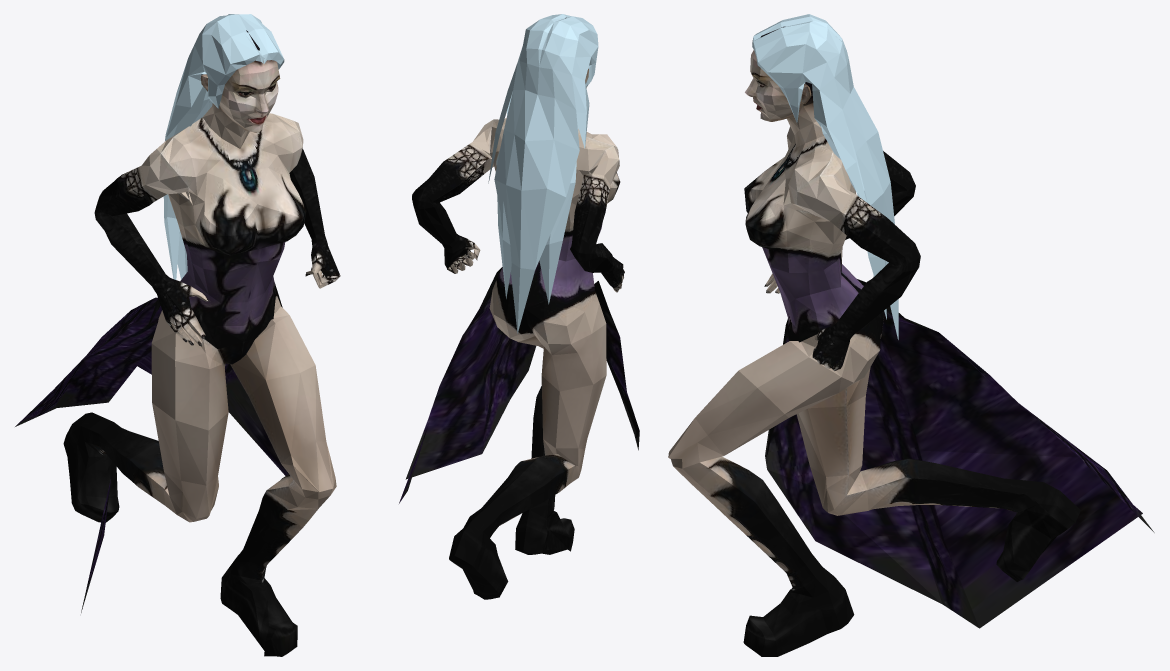
The model's file is running_007.obj.
3 renders of one model, left to right at view 1: azimuth 30°, elevation 25°; view 2: azimuth 150°, elevation 25°; view 3: azimuth 270°, elevation 25°, orthographic. The views are drawn at different scales.
Visible parts, largest first — view 1: Plane.001_Plane.007, Plane.003_Plane.008, capelli.001_Plane.006; view 2: Plane.001_Plane.007, capelli.001_Plane.006, Plane.003_Plane.008; view 3: Plane.001_Plane.007, Plane.003_Plane.008, capelli.001_Plane.006.
Boxes of the visible parts, left/top/right/bottom form: Plane.001_Plane.007: left=63, top=30, right=340, bottom=656; Plane.003_Plane.008: left=15, top=282, right=288, bottom=612; capelli.001_Plane.006: left=163, top=14, right=284, bottom=279; Plane.001_Plane.007: left=412, top=17, right=624, bottom=599; capelli.001_Plane.006: left=488, top=14, right=598, bottom=333; Plane.003_Plane.008: left=399, top=267, right=639, bottom=503; Plane.001_Plane.007: left=668, top=26, right=1080, bottom=656; Plane.003_Plane.008: left=765, top=279, right=1154, bottom=628; capelli.001_Plane.006: left=752, top=14, right=898, bottom=339.
Size of the model in its own units: 1.71 by 5.04 by 3.46.
